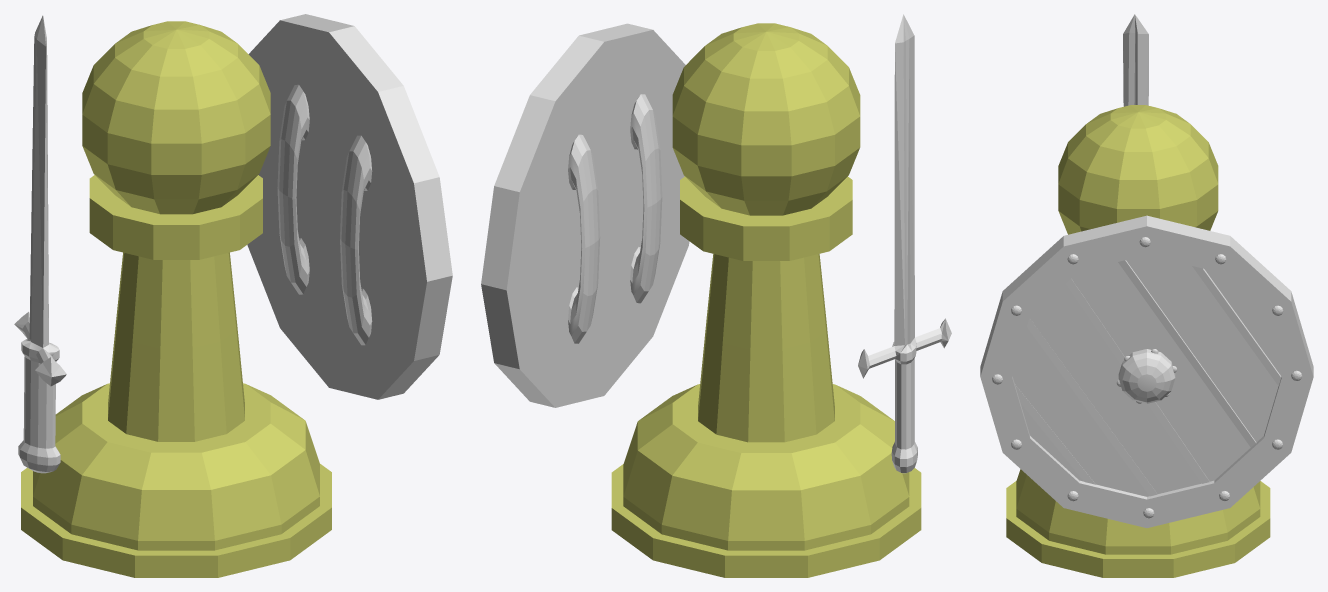
The model's file is soldier_white.glb.
The picture shows the model from 3 angles, left to right: view 1: azimuth 30°, elevation 25°; view 2: azimuth 150°, elevation 25°; view 3: azimuth 270°, elevation 25°; orthographic projection. The views are drawn at different scales.
Visible parts, largest first — view 1: node_MeshObject371688640-PolyPaper23_mesh_m0-PolyPaper23_-3., model.002, mesh1818331932.002; view 2: node_MeshObject371688640-PolyPaper23_mesh_m0-PolyPaper23_-3., model.002, mesh1818331932.002; view 3: model.002, node_MeshObject371688640-PolyPaper23_mesh_m0-PolyPaper23_-3., mesh1818331932.002.
Boxes of the visible parts, x1,y1,x2,y2 form: node_MeshObject371688640-PolyPaper23_mesh_m0-PolyPaper23_-3.: [21, 21, 331, 577]; model.002: [247, 14, 452, 399]; mesh1818331932.002: [14, 15, 66, 473]; node_MeshObject371688640-PolyPaper23_mesh_m0-PolyPaper23_-3.: [611, 23, 921, 577]; model.002: [481, 23, 689, 407]; mesh1818331932.002: [858, 14, 951, 473]; model.002: [980, 215, 1313, 527]; node_MeshObject371688640-PolyPaper23_mesh_m0-PolyPaper23_-3.: [1006, 105, 1270, 577]; mesh1818331932.002: [1123, 14, 1148, 106].
Size of the model in its own units: 0.1681 by 0.2371 by 0.1584.
